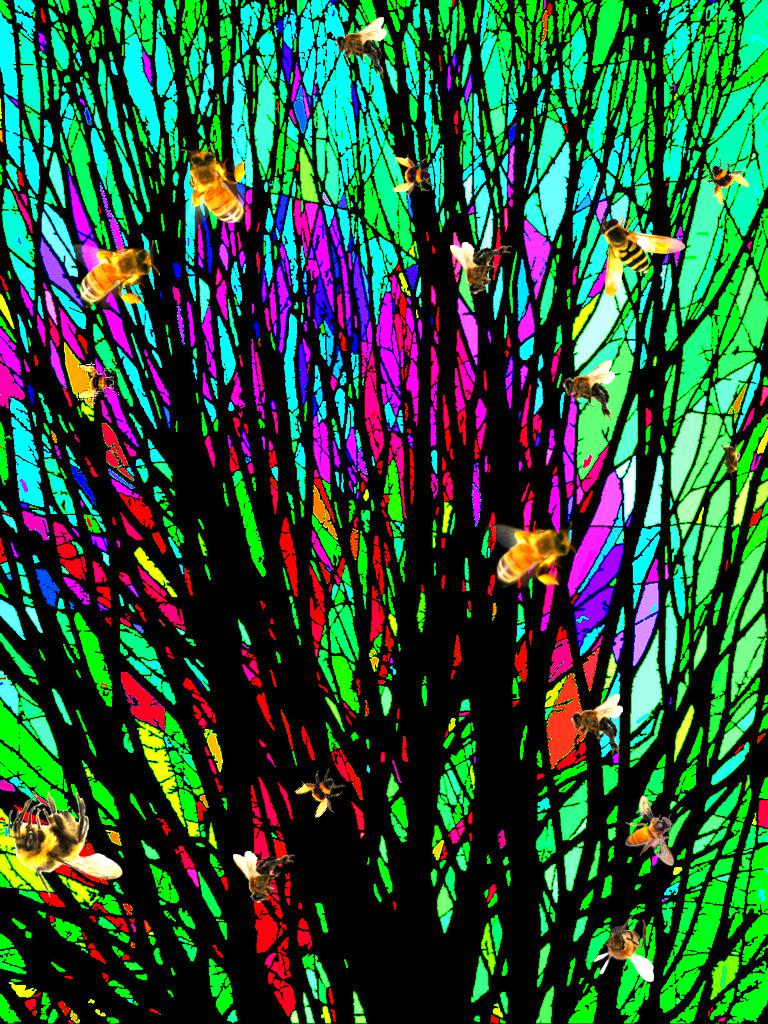Bee: (8, 791, 123, 898), (598, 215, 686, 297), (483, 519, 579, 590), (181, 143, 249, 236), (67, 240, 160, 308), (593, 912, 654, 982), (290, 761, 354, 825), (694, 147, 756, 209), (625, 795, 675, 866), (570, 694, 623, 756), (233, 851, 295, 904), (562, 360, 615, 422), (334, 17, 387, 79), (450, 242, 512, 295), (76, 362, 120, 406), (392, 155, 436, 199), (719, 440, 741, 480)
